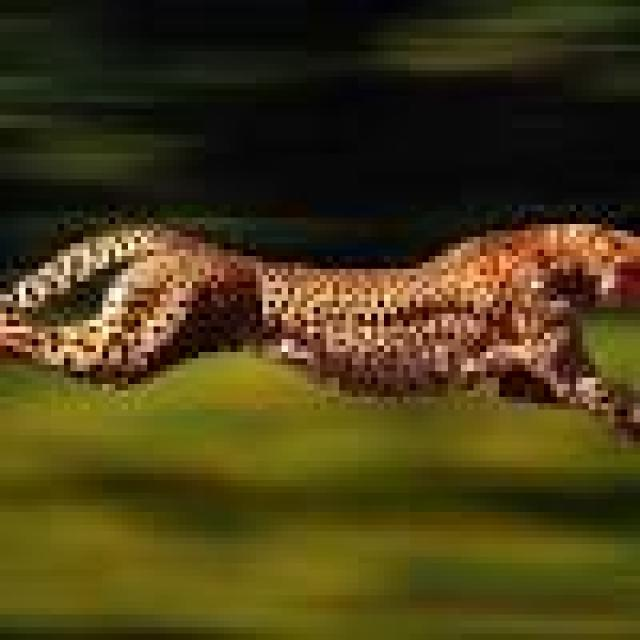Jaguar: (0, 212, 640, 454)
